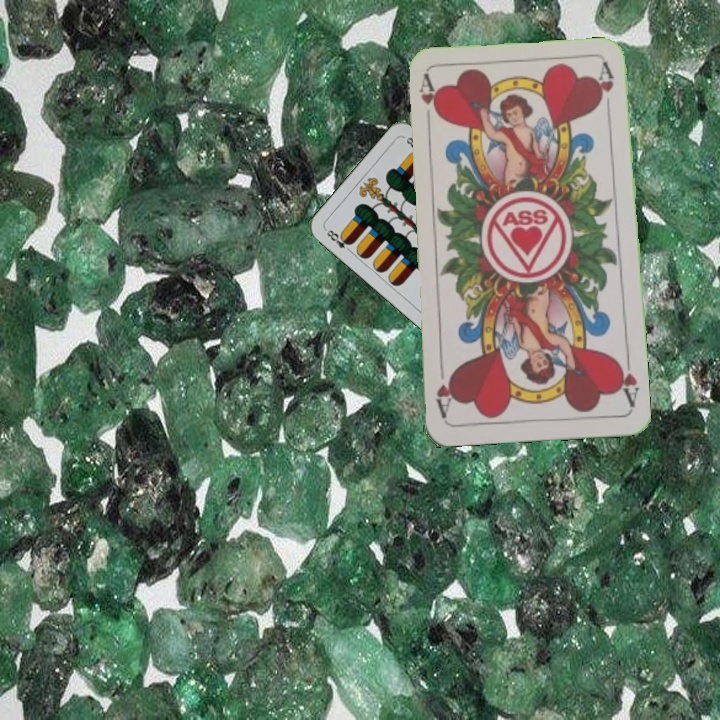E8: (321, 225, 355, 256)
HA: (612, 351, 641, 410), (415, 72, 439, 131)
